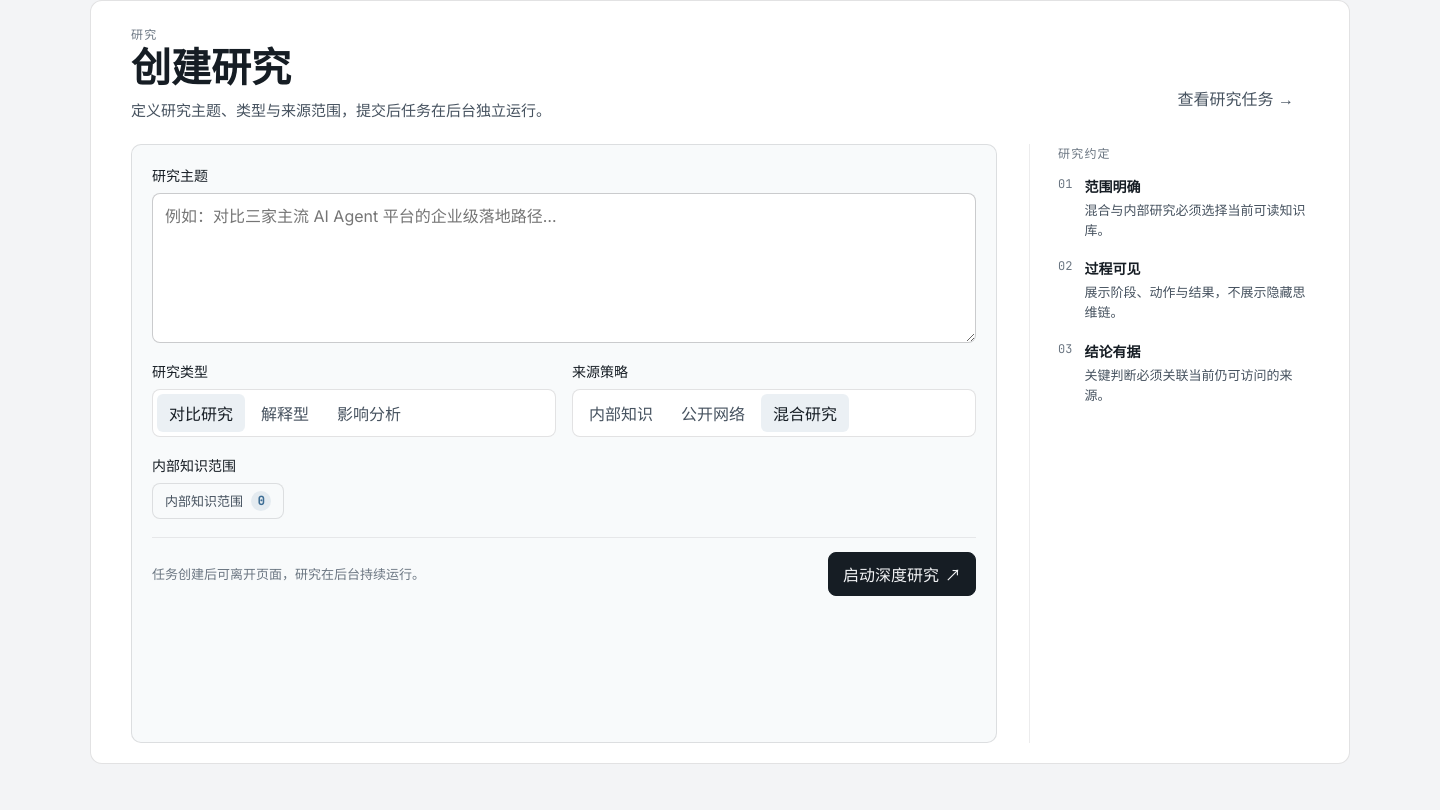
Test: 创建研究页 › 切换到公开网络后隐藏知识库选择器
Click the button "公开网络" at (713, 413), box x1=669 y1=394 x2=757 y2=432
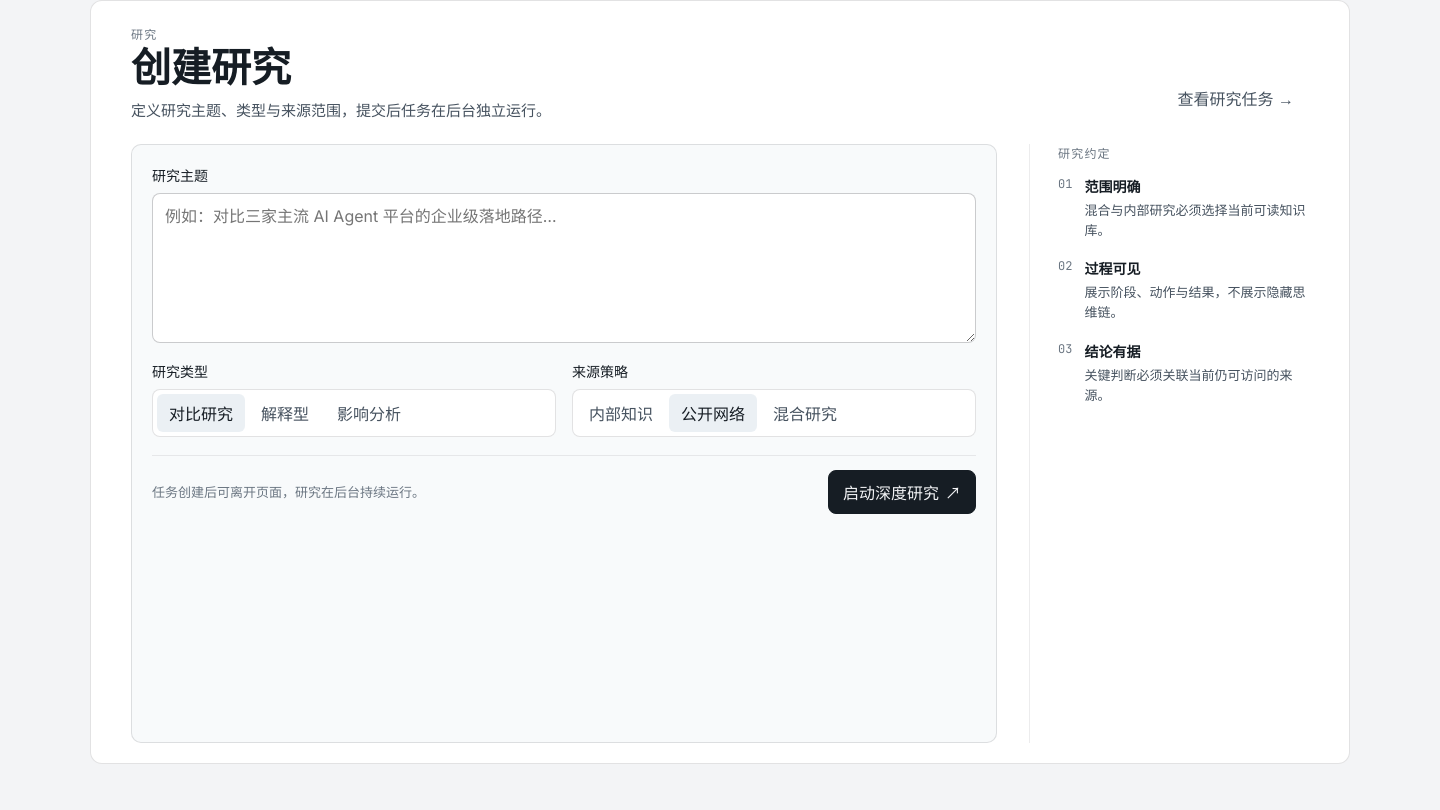
Expected: the text "内部知识范围" is gone
